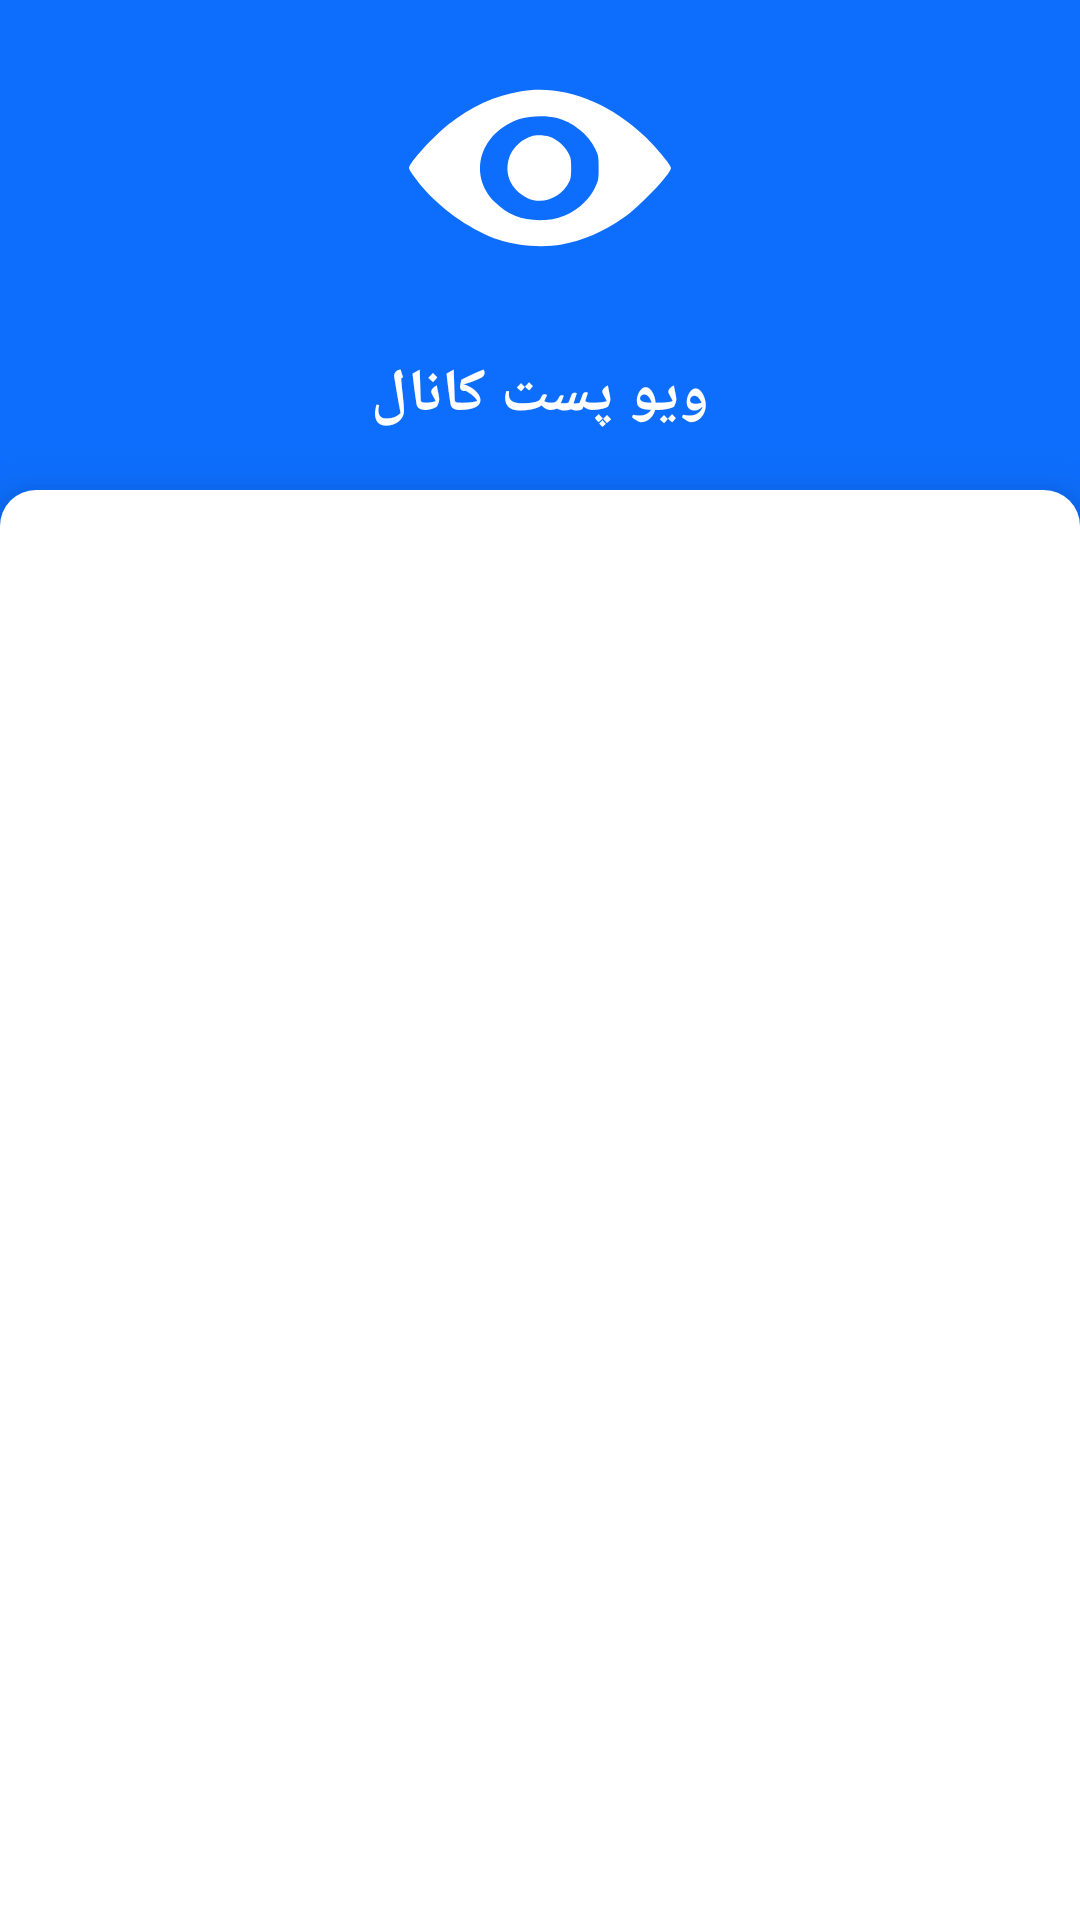

Where icons sit on this 1080*1920 app screen, as [x1=x1, y1=y1, x2=x2, y2=y2]:
view: [x1=409, y1=89, x2=671, y2=247]
